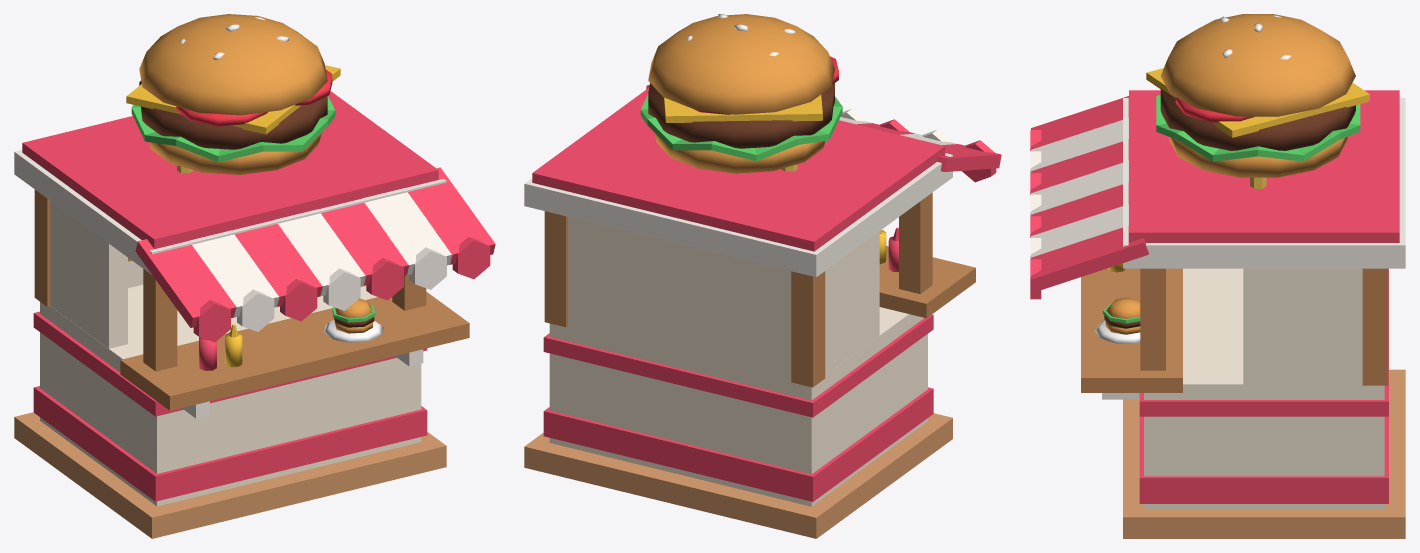
File: hamburger_stand.glb
3 views of the same model, side by side, from view 1: azimuth 30°, elevation 25°; view 2: azimuth 150°, elevation 25°; view 3: azimuth 270°, elevation 25° (orthographic). The views are drawn at different scales.
Visible parts, largest first — view 1: hamburger_stand, BurgerSign; view 2: hamburger_stand, BurgerSign; view 3: hamburger_stand, BurgerSign.
Part boxes in pixels (left/top/right/bottom): hamburger_stand: left=14, top=91, right=495, bottom=538; BurgerSign: left=126, top=14, right=340, bottom=174; hamburger_stand: left=524, top=85, right=1001, bottom=538; BurgerSign: left=640, top=14, right=842, bottom=173; hamburger_stand: left=1030, top=90, right=1405, bottom=538; BurgerSign: left=1146, top=14, right=1369, bottom=177.
Size of the model in its own units: 1.19 by 1.62 by 1.25.
